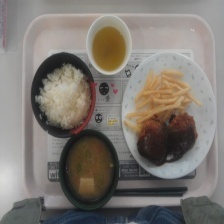rice: (35, 61, 95, 130)
